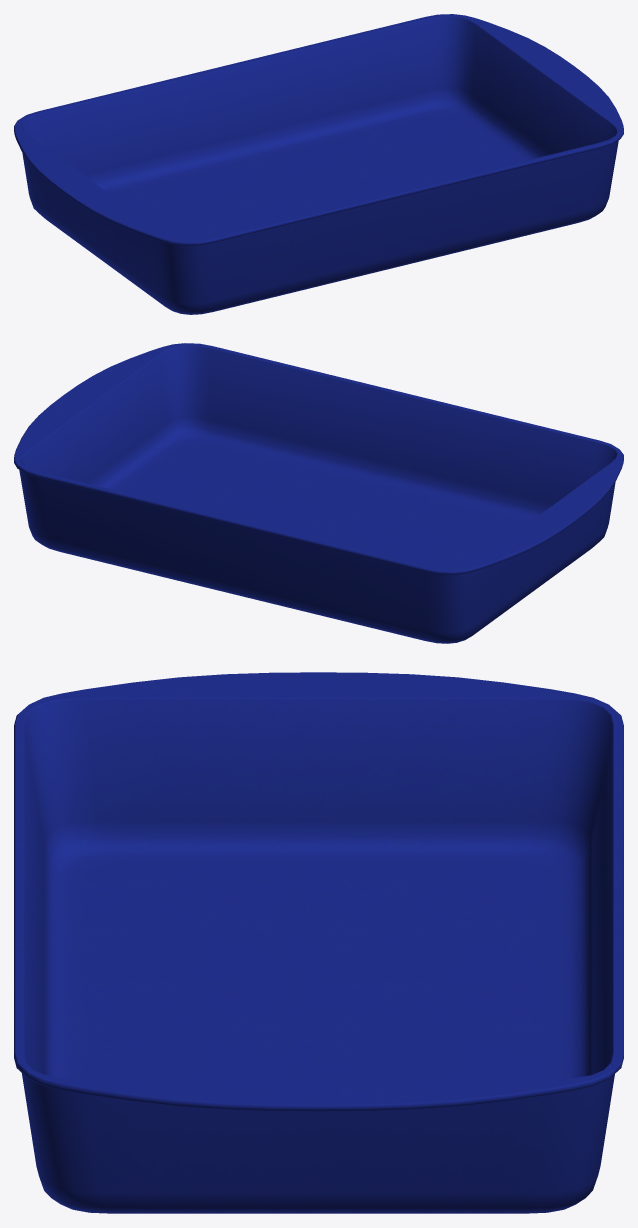
Rendered from BakingDish.fbx.
3 renders of one model, top to bottom at view 1: azimuth 30°, elevation 25°; view 2: azimuth 150°, elevation 25°; view 3: azimuth 270°, elevation 25°, orthographic. The views are drawn at different scales.
Parts seen in each view (by area): view 1: BakingDish; view 2: BakingDish; view 3: BakingDish.
Part boxes in pixels (box(x1,y1,x2,y2)): BakingDish: box(14, 14, 623, 314); BakingDish: box(14, 343, 623, 643); BakingDish: box(14, 672, 623, 1213).
Bounding box in the file's own units: 15.55 × 2.47 × 9.24.
